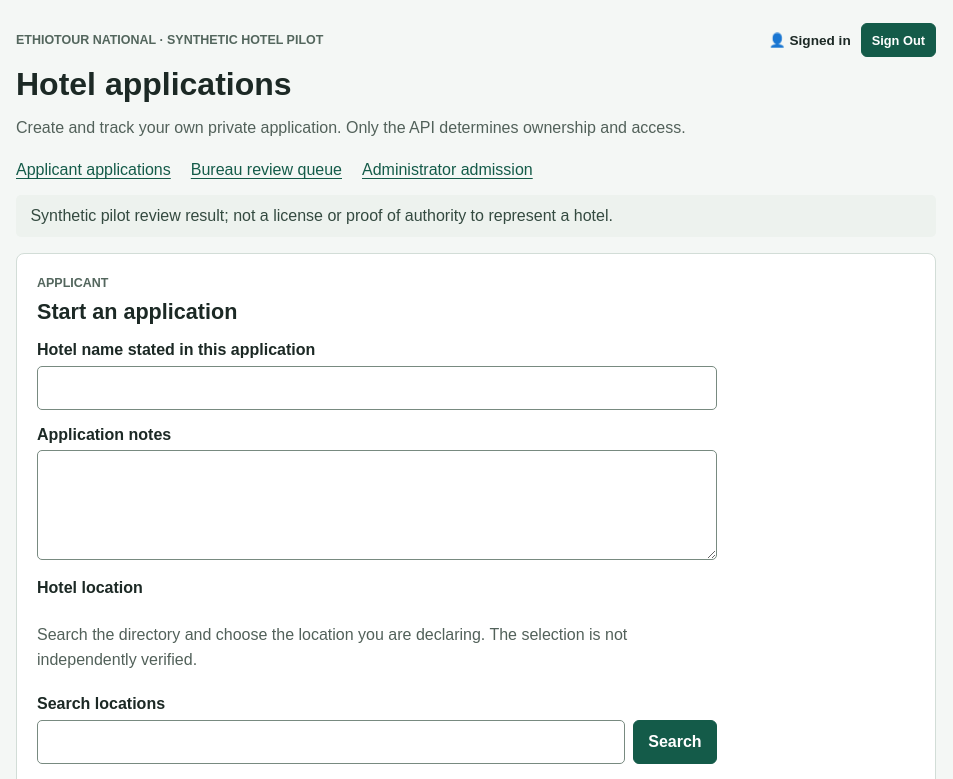
Test: hotel location selection, snapshots, and error retention › uses the structured stale-release code without displaying server error details
Type "Unsaved hotel name" into the field labelled "Hotel name stated in this application" at (377, 388), box [37,366,717,410]
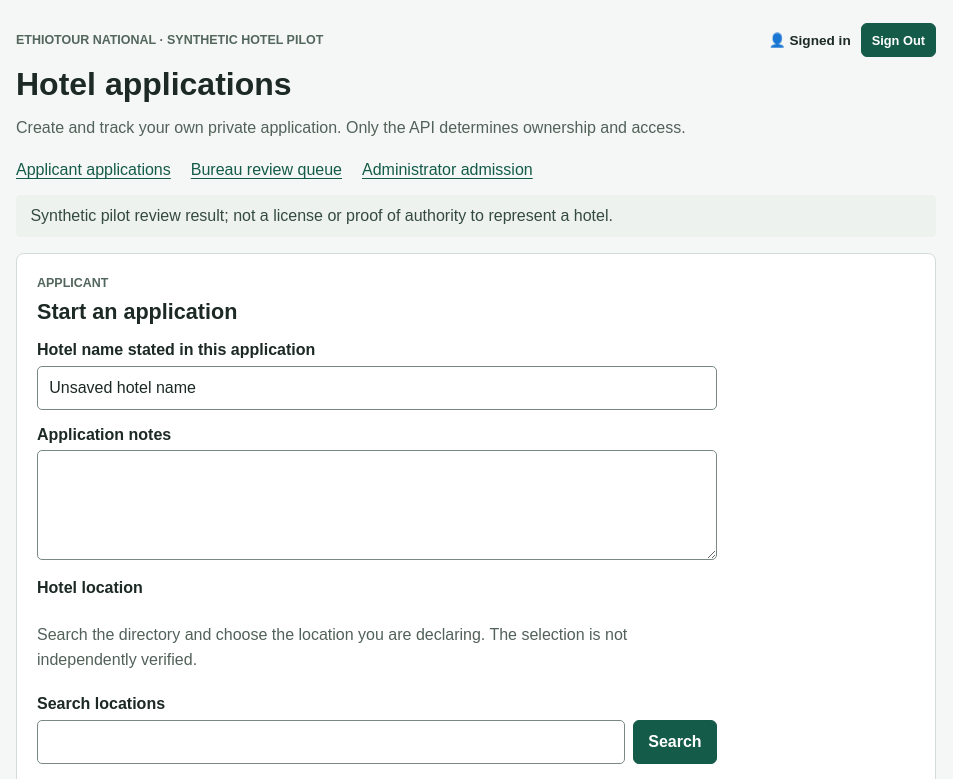
Type "Unsaved application notes" into the text box labelled "Application notes" at (377, 505), box [37,450,717,560]
(page scrolled)
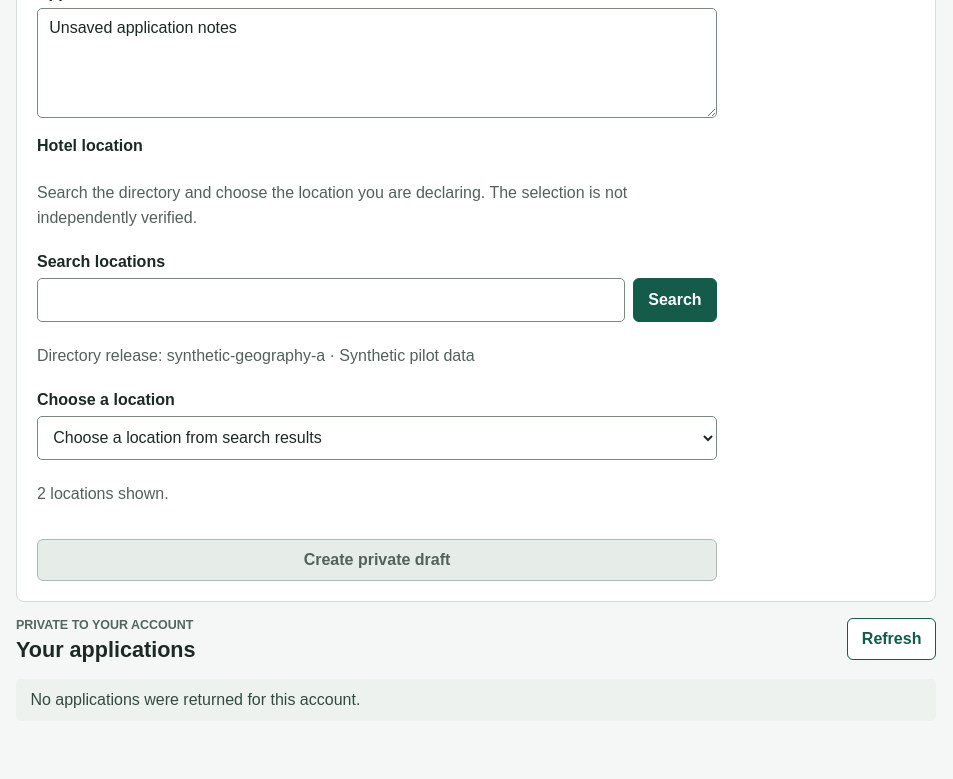
Select "Synthetic region / Synthetic gondar · demo-locality" in the dropdown labelled "Choose a location" at (377, 438), box [37,416,717,460]
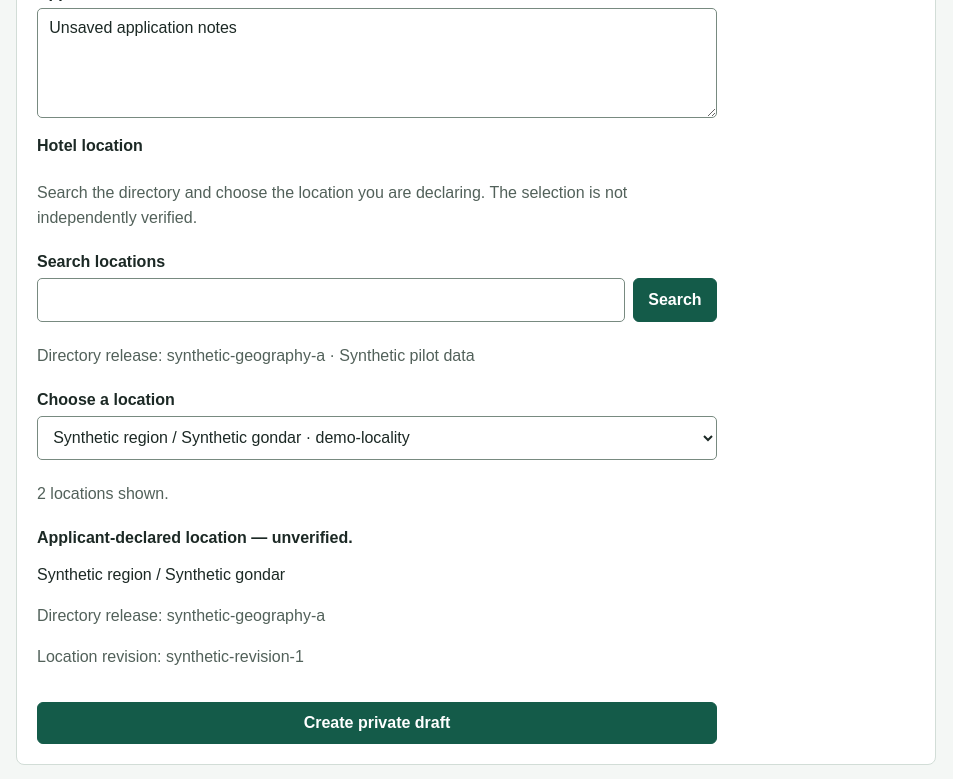
Type "updated query" into the search field labelled "Search locations" at (331, 300), box [37,278,625,322]
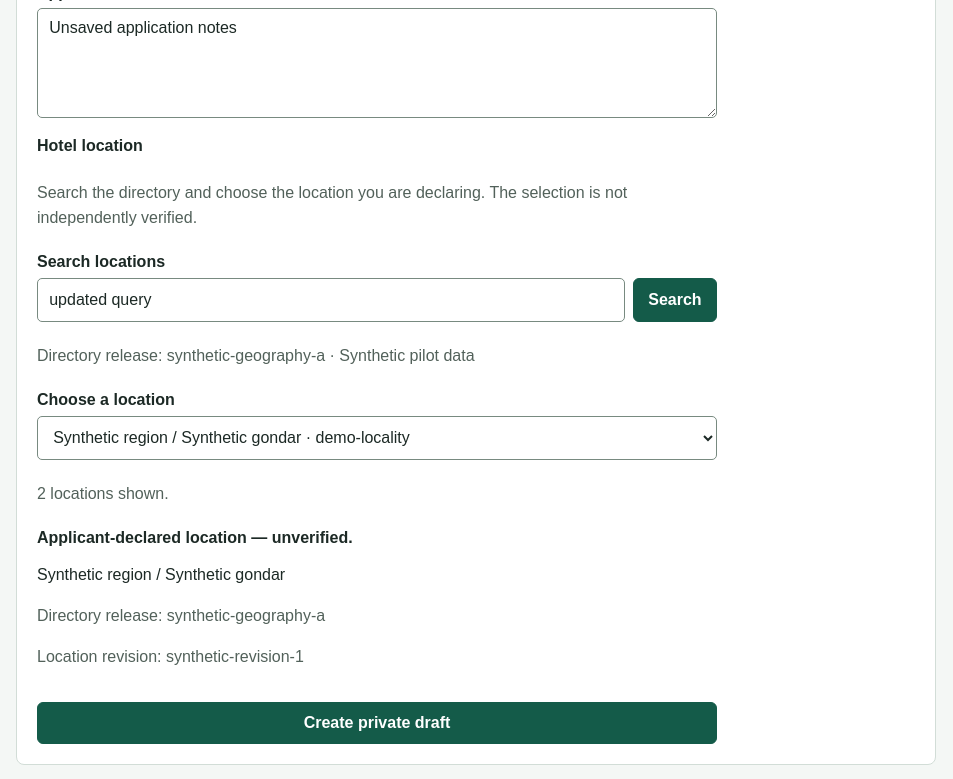
Click the button "Search" at (675, 300), box [633,278,717,322]
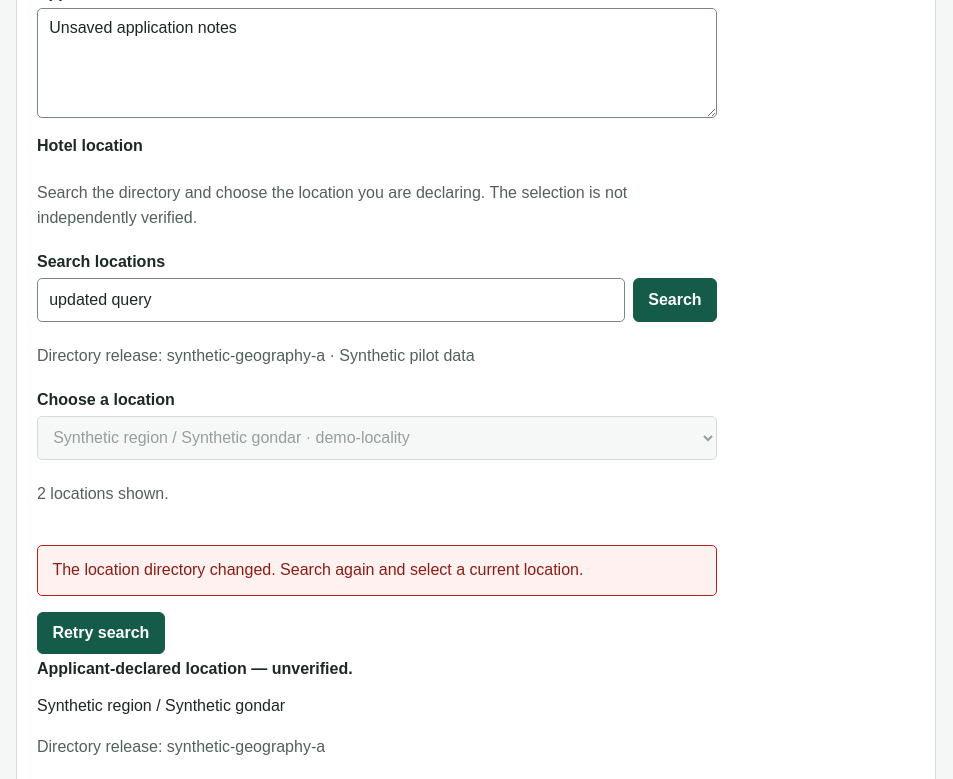
Now the message "The location directory changed. Search again and select a current location." is shown, box [37,545,717,596]
